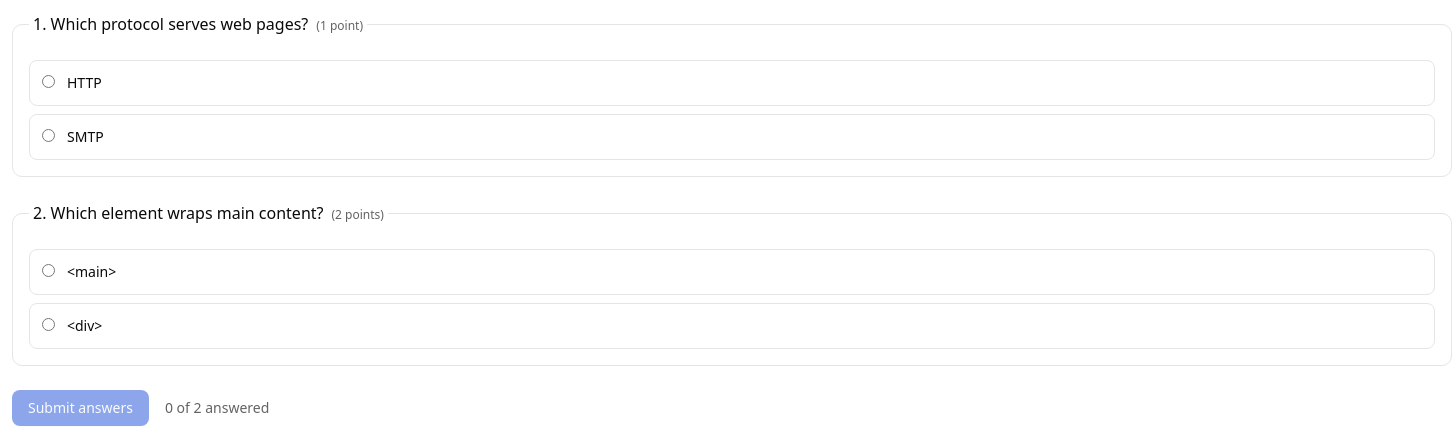
QuizForm › keeps submit disabled until every question is answered
Check: the button "Submit answers" is disabled, box [12,390,149,426]
Check: the text "0 of 2 answered" is shown, box [165,398,269,418]
Click the radio button labelled "HTTP": (48, 82) [42,75,55,88]
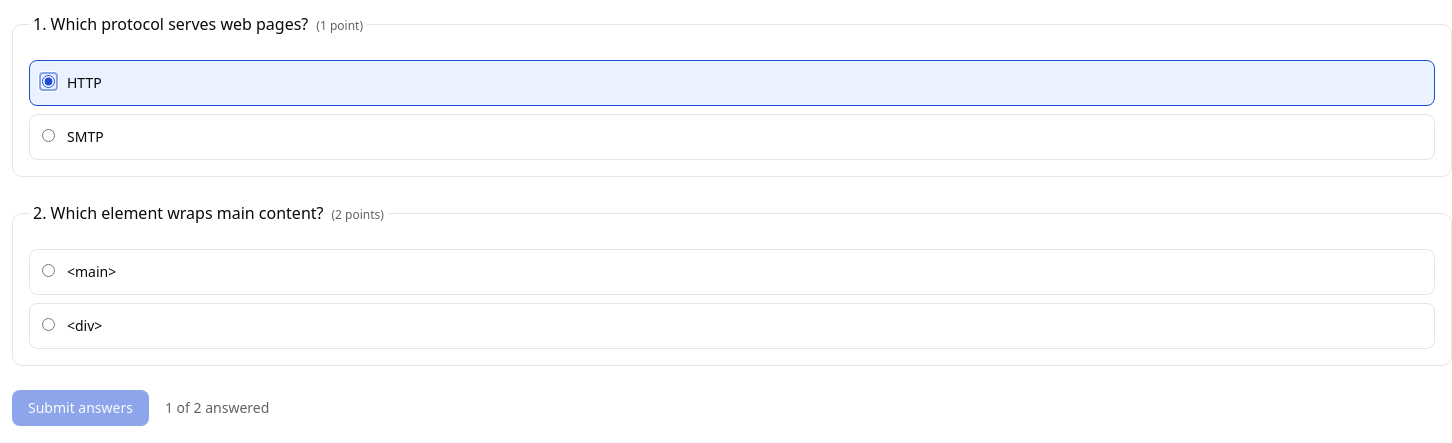
Check: the button "Submit answers" is disabled, box [12,390,149,426]
Check: the text "1 of 2 answered" is shown, box [165,398,269,418]
Click the radio button labelled "<main>": (48, 270) [42,264,55,277]
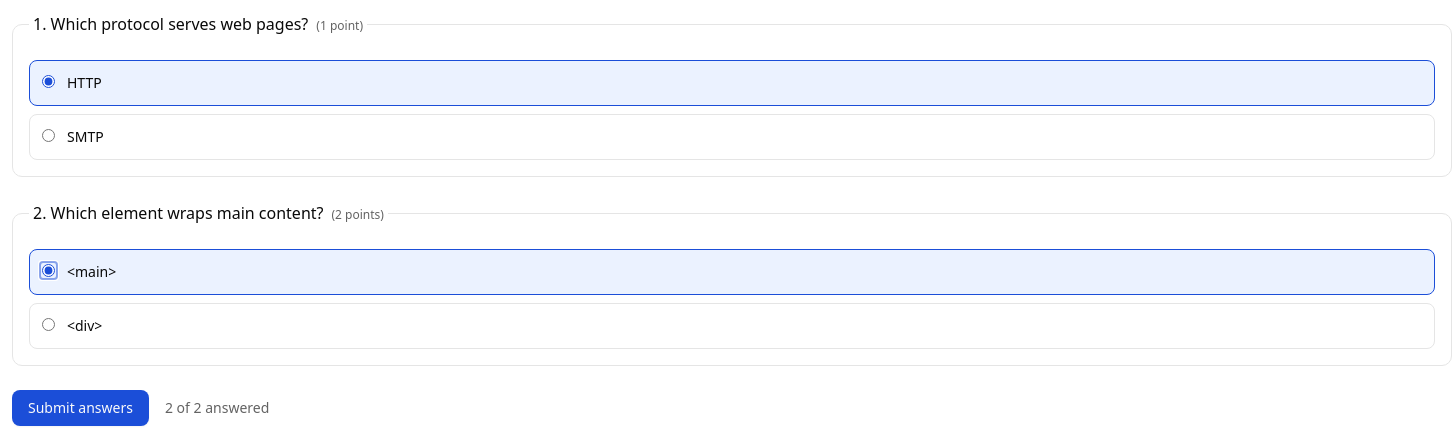
Check: the text "2 of 2 answered" is shown, box [165,398,269,418]
Check: the button "Submit answers" is enabled, box [12,390,149,426]
